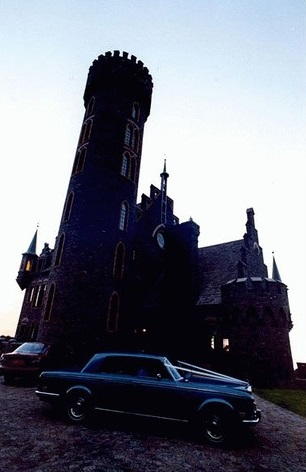car: (2, 340, 68, 385)
